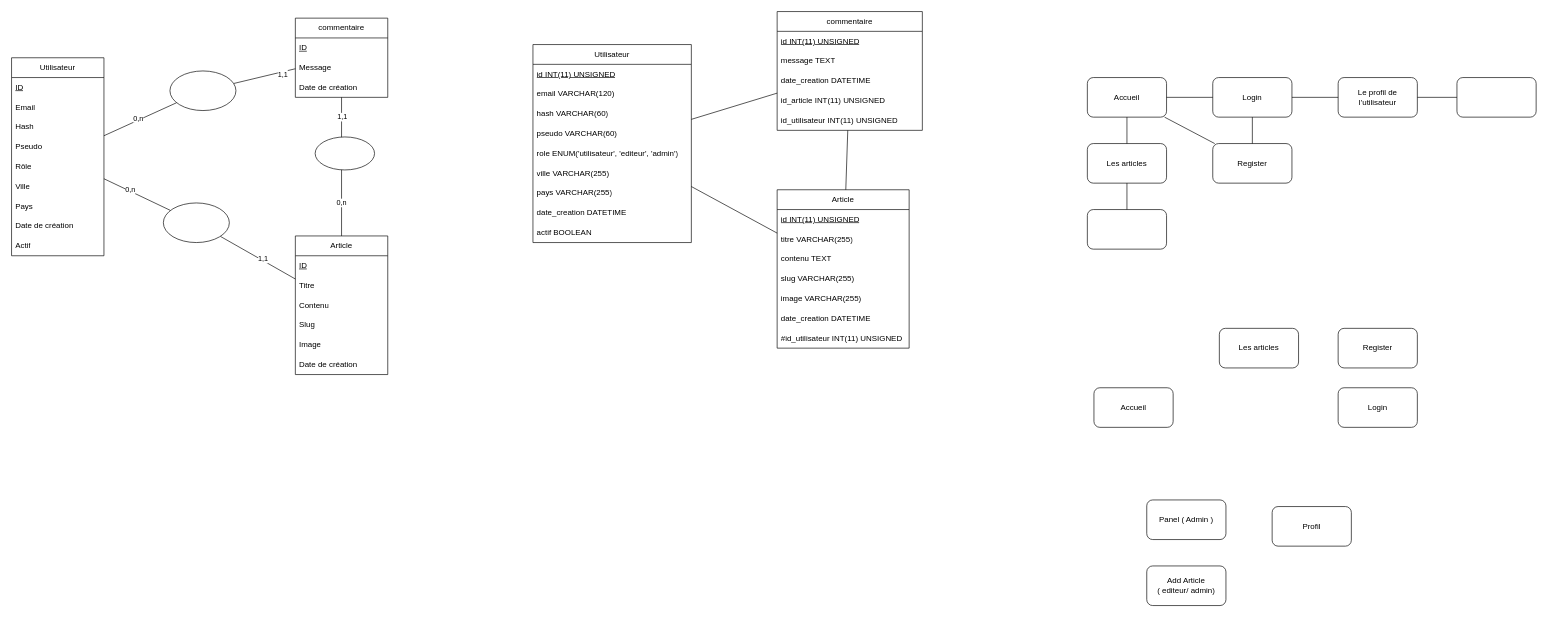
This 1548x617 diagram has some shape labels left out. Each missing label, with the centre of its shape:
Appartenir: point 344,153
Commenter: point 202,90
Le tableau de bord: point 1496,97
L’édition d’un nouvel article: point 1127,229
Rédiger: point 196,222
